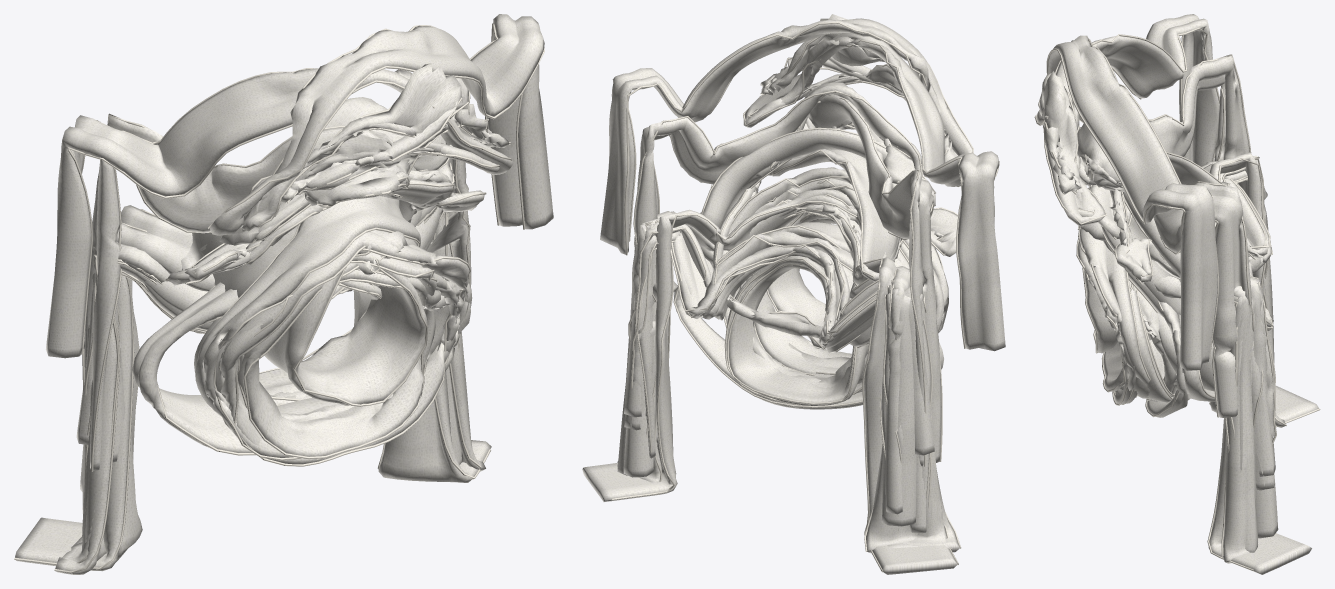
File: towel_sim.glb
The picture shows the model from 3 angles, left to right: view 1: azimuth 30°, elevation 25°; view 2: azimuth 150°, elevation 25°; view 3: azimuth 270°, elevation 25°; orthographic projection. The views are drawn at different scales.
Parts seen in each view (by area): view 1: towel_patient12, towel_patient14, towel_patient13, towel_patient05, towel_patient06, towel_patient02, towel_patient09, towel_patient08, towel_patient07, towel_patient04, towel_patient11, towel_patient03 (+2 smaller); view 2: towel_patient12, towel_patient13, towel_patient14, towel_patient08, towel_patient04, towel_patient09, towel_patient07, towel_patient10, towel_patient06, towel_patient11, towel_patient03, towel_patient05 (+2 smaller); view 3: towel_patient12, towel_patient13, towel_patient14, towel_patient05, towel_patient07, towel_patient08, towel_patient06, towel_patient04, towel_patient09, towel_patient10, towel_patient11, towel_patient02 (+2 smaller).
Part boxes in pixels (x1=…): towel_patient12: x1=45, y1=14, x2=553, y2=358; towel_patient14: x1=14, y1=181, x2=491, y2=571; towel_patient13: x1=82, y1=78, x2=471, y2=471; towel_patient05: x1=122, y1=196, x2=472, y2=460; towel_patient06: x1=83, y1=223, x2=435, y2=535; towel_patient02: x1=84, y1=222, x2=464, y2=481; towel_patient09: x1=76, y1=162, x2=453, y2=455; towel_patient08: x1=165, y1=164, x2=486, y2=299; towel_patient07: x1=54, y1=174, x2=485, y2=574; towel_patient04: x1=56, y1=164, x2=462, y2=564; towel_patient11: x1=80, y1=213, x2=451, y2=491; towel_patient03: x1=82, y1=243, x2=453, y2=513; towel_patient12: x1=600, y1=14, x2=1005, y2=351; towel_patient13: x1=630, y1=82, x2=942, y2=466; towel_patient14: x1=582, y1=189, x2=958, y2=574; towel_patient08: x1=700, y1=127, x2=957, y2=338; towel_patient04: x1=617, y1=211, x2=951, y2=549; towel_patient09: x1=628, y1=211, x2=943, y2=455; towel_patient07: x1=617, y1=231, x2=961, y2=552; towel_patient10: x1=635, y1=222, x2=926, y2=532; towel_patient06: x1=623, y1=212, x2=937, y2=553; towel_patient11: x1=631, y1=195, x2=932, y2=514; towel_patient03: x1=650, y1=199, x2=916, y2=526; towel_patient05: x1=624, y1=167, x2=948, y2=488; towel_patient12: x1=1034, y1=14, x2=1219, y2=370; towel_patient13: x1=1077, y1=54, x2=1254, y2=417; towel_patient14: x1=1082, y1=152, x2=1320, y2=574; towel_patient05: x1=1078, y1=187, x2=1275, y2=476; towel_patient07: x1=1221, y1=170, x2=1276, y2=563; towel_patient08: x1=1089, y1=151, x2=1230, y2=283; towel_patient06: x1=1101, y1=279, x2=1286, y2=538; towel_patient04: x1=1199, y1=161, x2=1273, y2=552; towel_patient09: x1=1145, y1=161, x2=1272, y2=428; towel_patient10: x1=1133, y1=167, x2=1273, y2=504; towel_patient11: x1=1078, y1=158, x2=1276, y2=446; towel_patient02: x1=1076, y1=238, x2=1274, y2=490.
Bounding box in the file's own units: 0.3893 × 0.4019 × 0.2357.
Materials: 2 (1 with a texture image).
